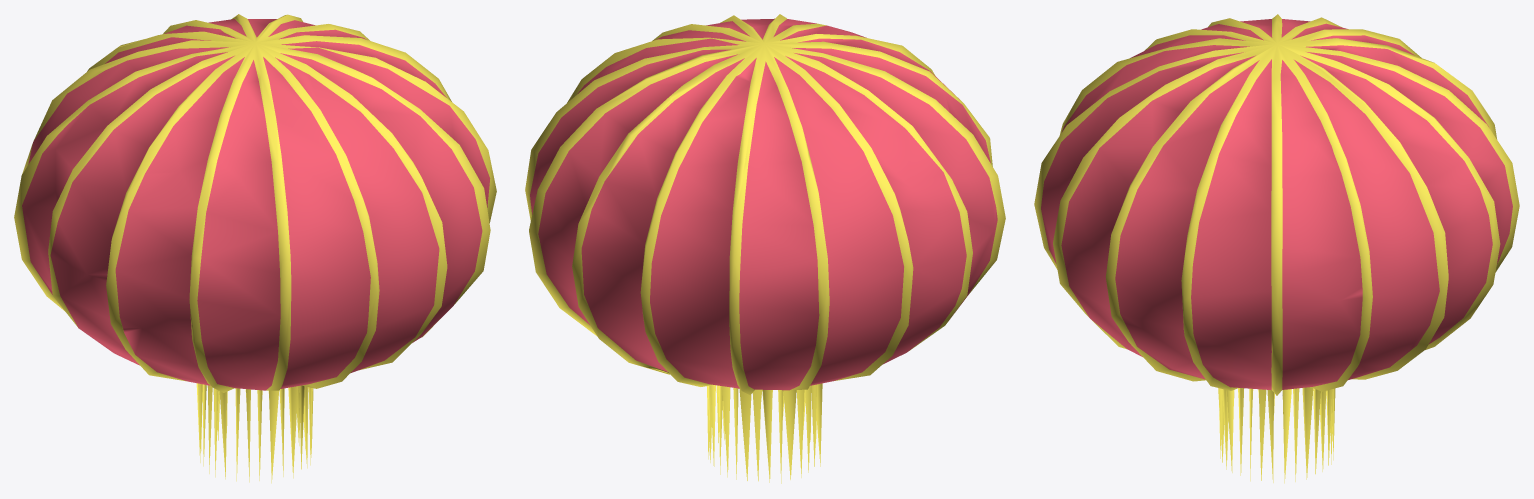
Rendered from lantern 1.fbx.
The picture shows the model from 3 angles, left to right: view 1: azimuth 30°, elevation 25°; view 2: azimuth 150°, elevation 25°; view 3: azimuth 270°, elevation 25°; orthographic projection.
Visible parts, largest first — view 1: obj_0; view 2: obj_0; view 3: obj_0.
Boxes of the visible parts, left/top/right/bottom form: obj_0: left=14, top=14, right=496, bottom=483; obj_0: left=525, top=14, right=1005, bottom=483; obj_0: left=1034, top=14, right=1519, bottom=483.
Bounding box in the file's own units: 2041 × 1951 × 2056.
